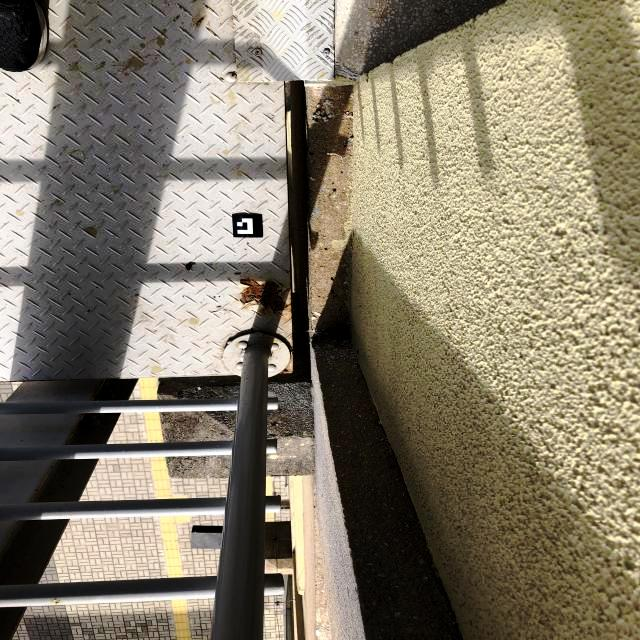Corrosion: (238, 278, 292, 316), (64, 413, 85, 445), (278, 346, 293, 374), (0, 380, 53, 382), (197, 17, 205, 25), (205, 27, 211, 31), (34, 489, 38, 495), (92, 394, 97, 398), (53, 602, 58, 606), (205, 5, 209, 9), (175, 15, 179, 19), (183, 9, 187, 13), (213, 34, 218, 37), (179, 5, 182, 9), (50, 465, 53, 469), (173, 19, 176, 22), (61, 486, 64, 489)
